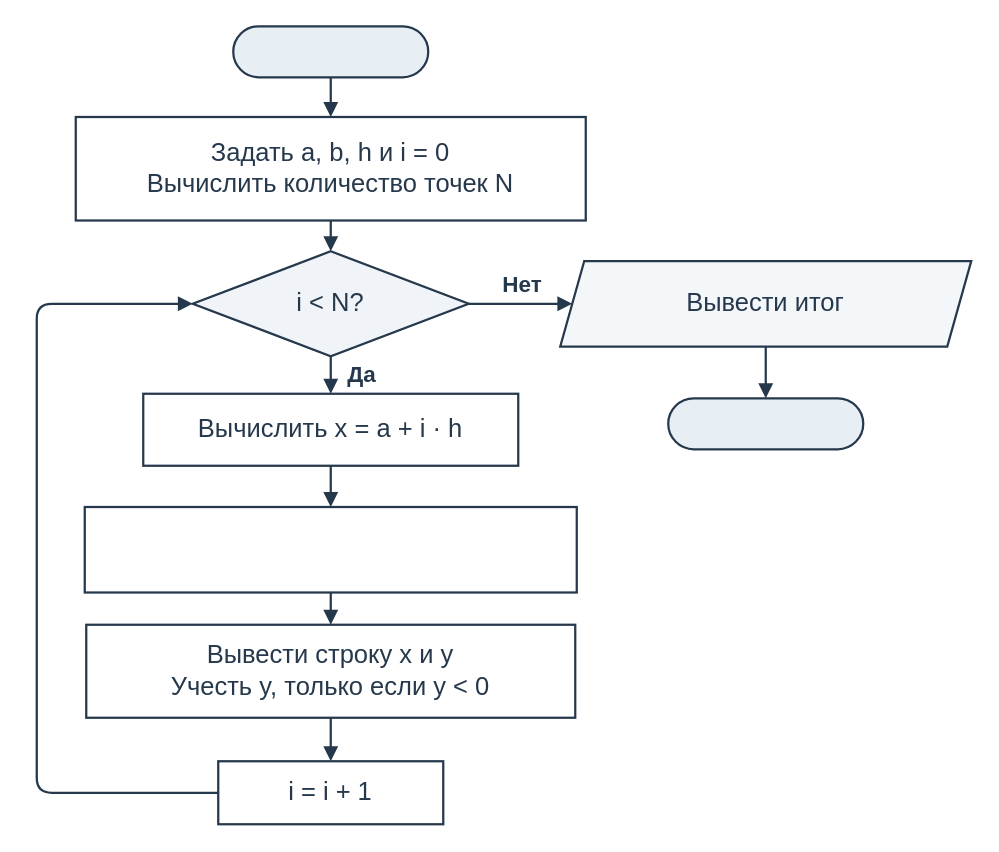
This 999x852 diagram has some shape labels left out. The shapes that lost their labels are listed below. From the top down, each one's centre as x and y in pixels, then its label:
the point at 330,51: Начало
the point at 765,423: Конец
the point at 330,549: Вычислить y по формуле варианта Проверить, задана ли ветвь
